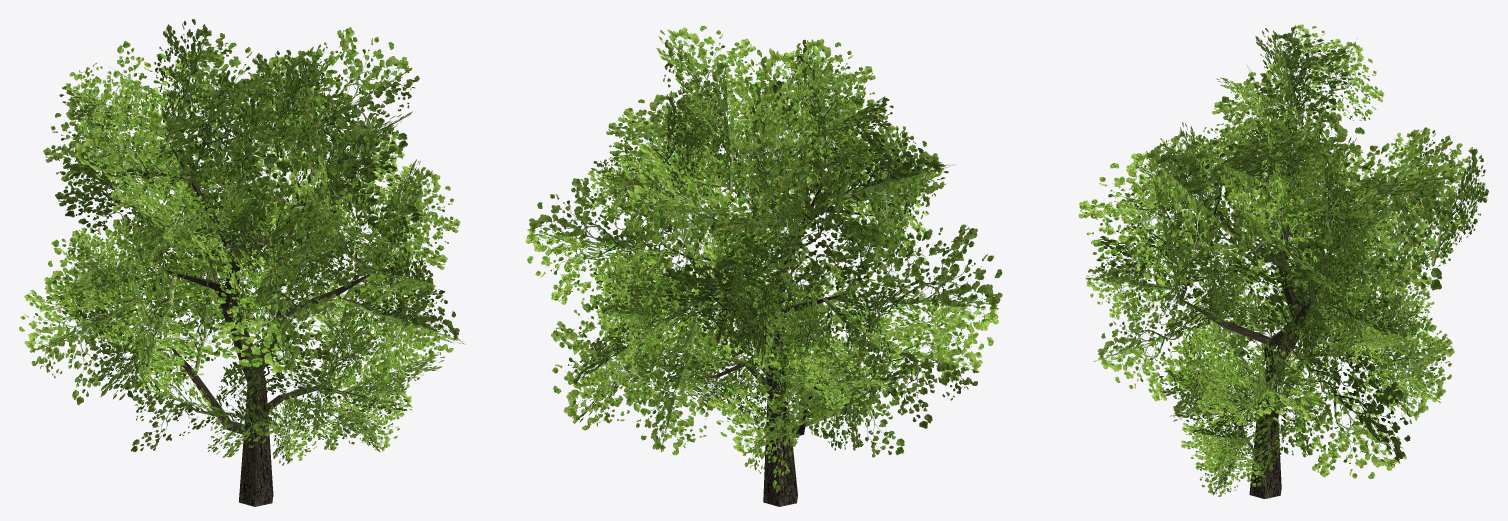
Rendered from tree_e.FBX.
3 renders of one model, left to right at view 1: azimuth 30°, elevation 25°; view 2: azimuth 150°, elevation 25°; view 3: azimuth 270°, elevation 25°, orthographic. The views are drawn at different scales.
Visible parts, largest first — view 1: tree_e; view 2: tree_e; view 3: tree_e.
Boxes of the visible parts, x1=… form: tree_e: x1=19, y1=19, x2=465, y2=506; tree_e: x1=525, y1=26, x2=1002, y2=506; tree_e: x1=1078, y1=24, x2=1488, y2=498.
Size of the model in its own units: 15.52 by 16.2 by 14.19.
Materials: 2 (2 with a texture image).
